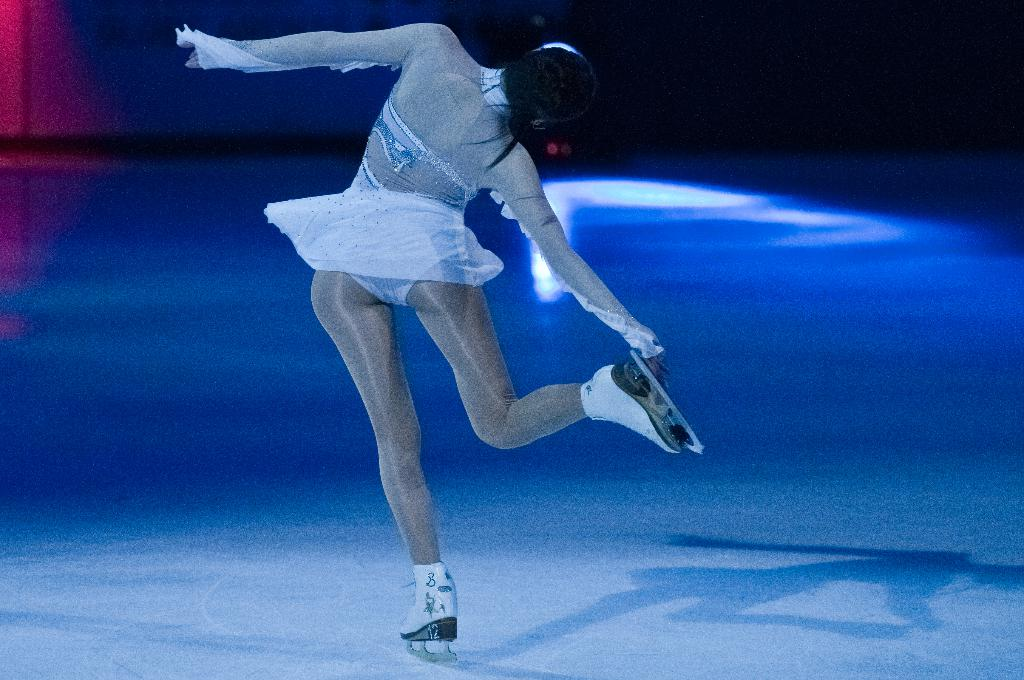Person: (174, 23, 705, 663)
